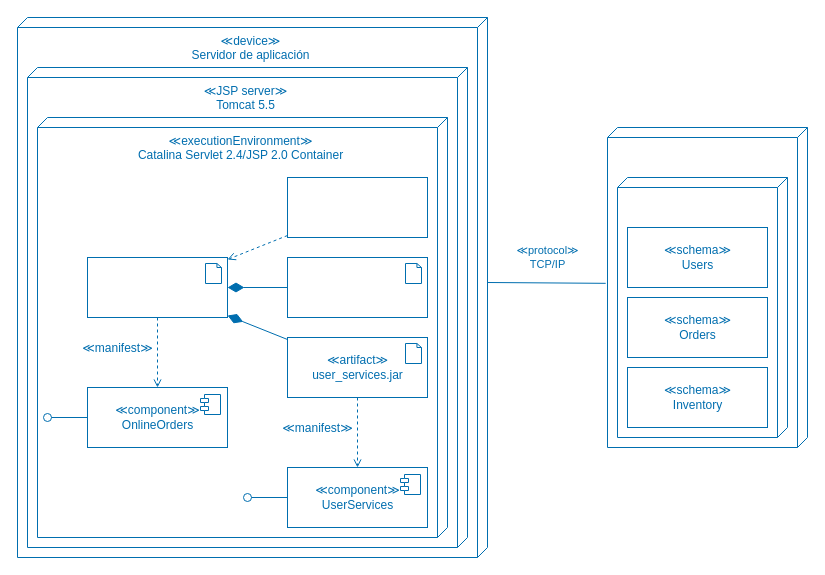
Some shapes in this 825 by 575 pixel diagram are drawn without their labels. The box of each missing label's shape, as (x1, y1, x2, y2) in pixels:
≪artifact≫ book_club_app.war: (86, 256, 228, 318)
≪artifact≫ web-tools-lib.jar: (286, 256, 428, 318)
≪databaseSystem≫ Oracle 10g: (616, 176, 788, 438)
≪deploymentSpec≫ web.xml: (286, 176, 428, 238)
≪device≫ Servidor de base de datos: (606, 126, 808, 448)
